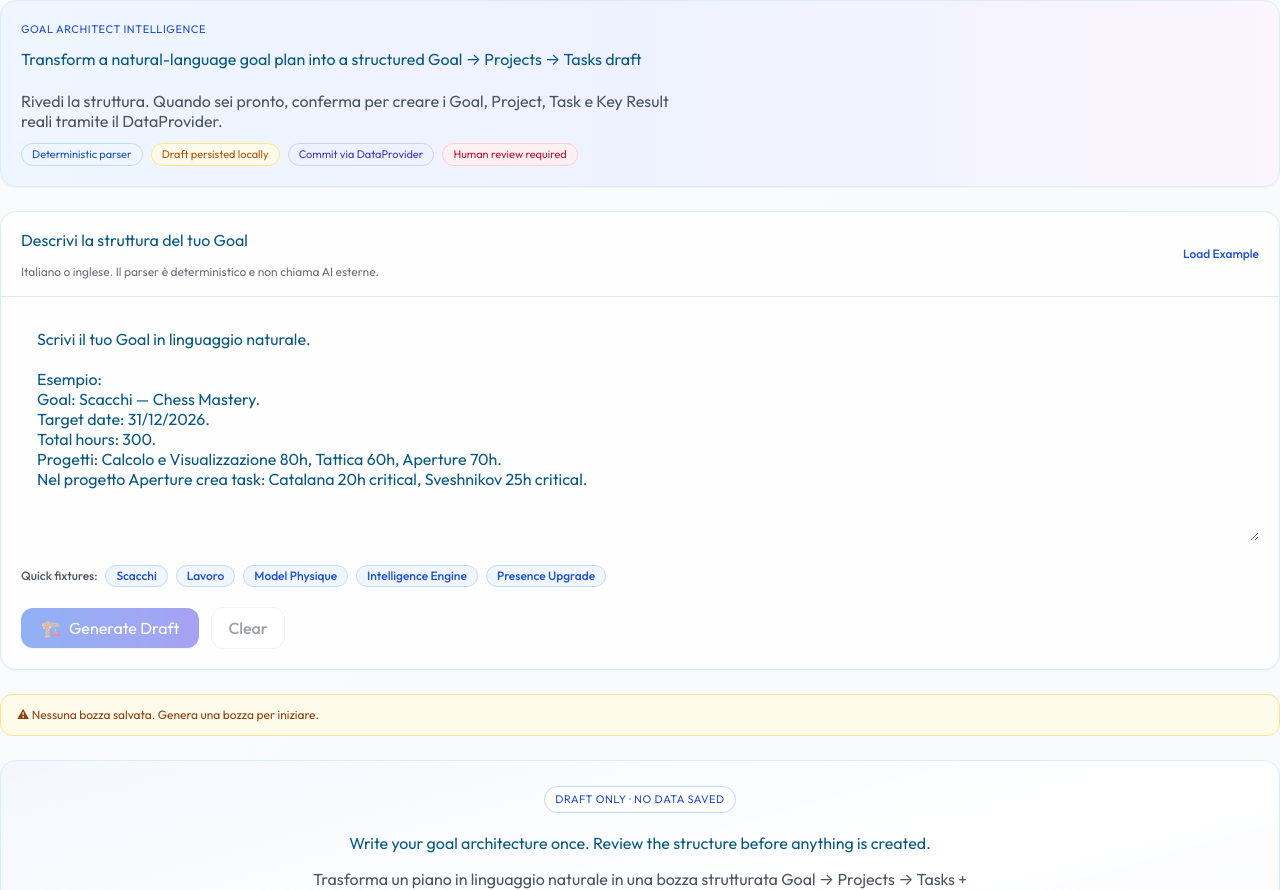
Test: GoalArchitectView — approve button without commit deps › shows the disabled "not wired" label when no create functions are provided
The image size is (1280, 890).
Click the button with test id "goal-architect-chip-chess" at (137, 576), box [106, 565, 168, 587]
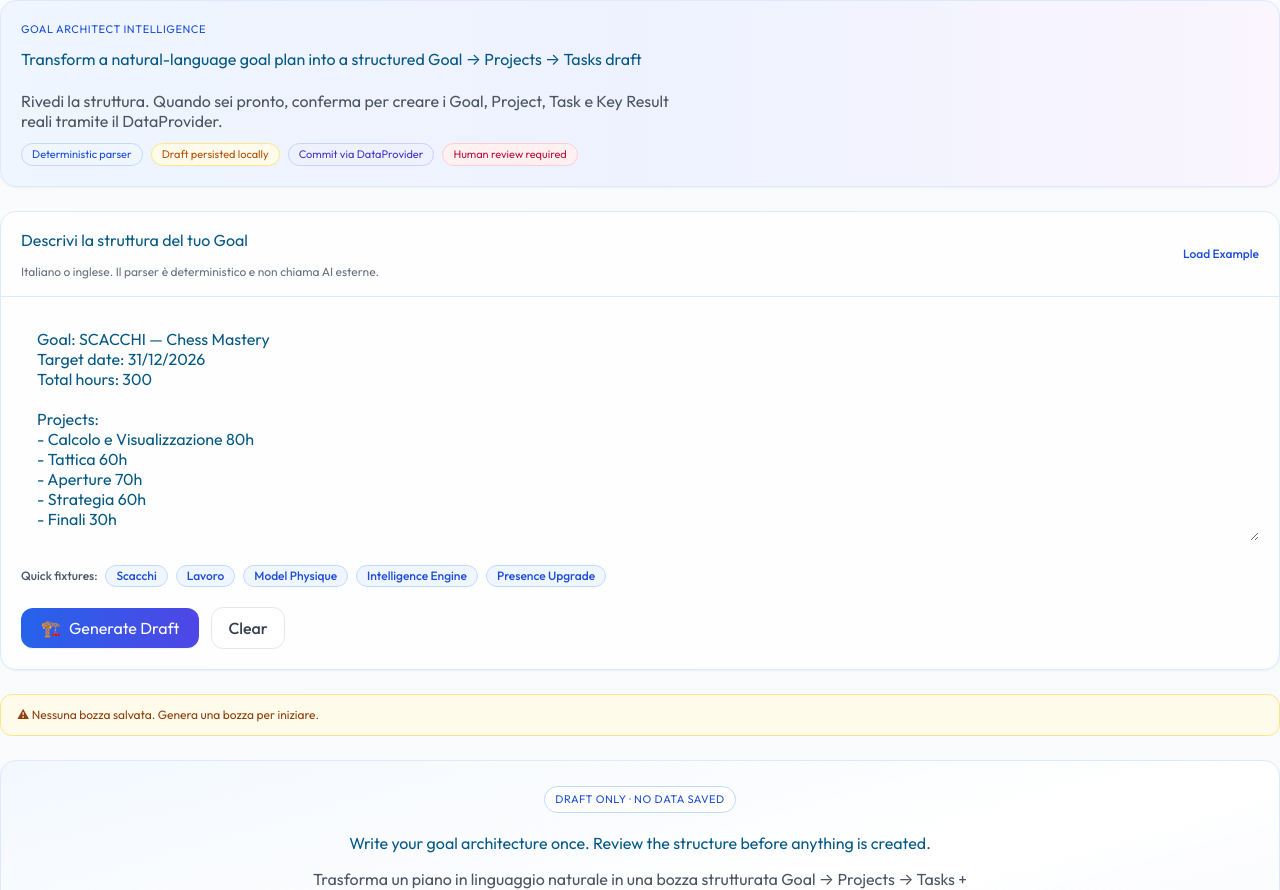
Click the button with test id "goal-architect-generate" at (110, 628), box [21, 608, 199, 648]
(page scrolled)
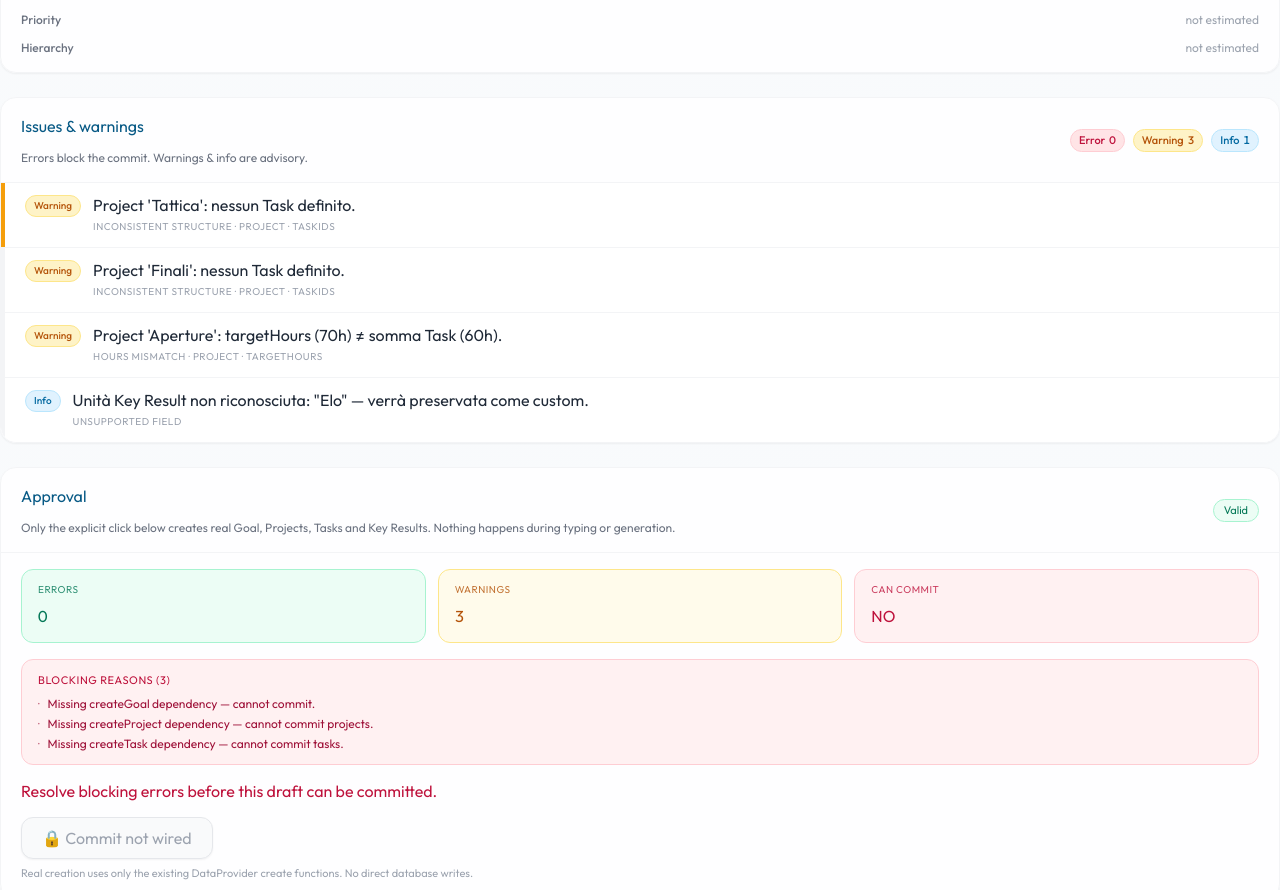
Expected: the button with test id "goal-architect-commit-button" is disabled, [21, 817, 213, 859]
Expected: the button with test id "goal-architect-commit-button" shows "not wired", [21, 817, 213, 859]
